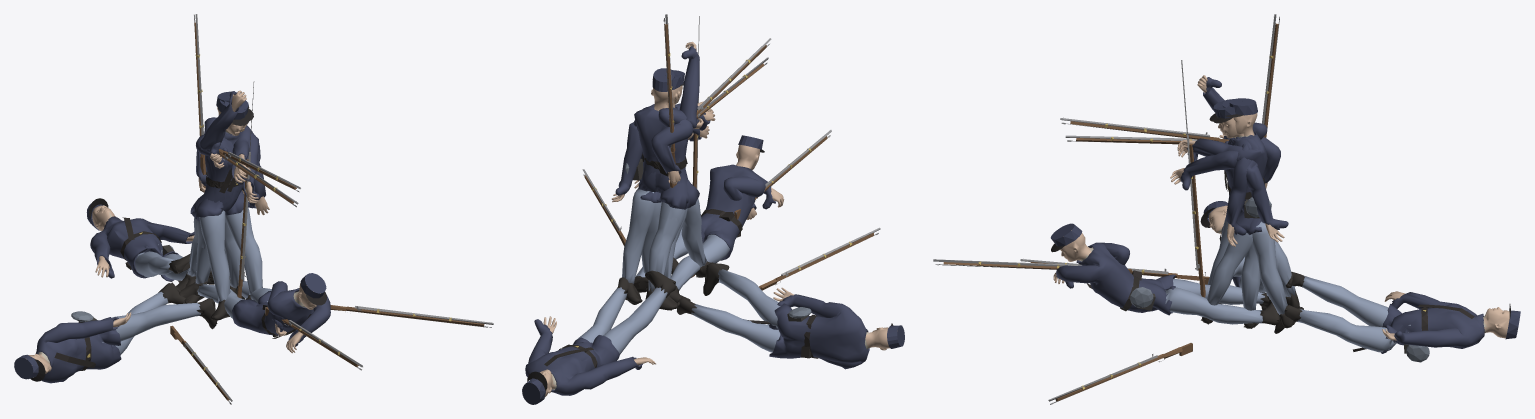
Rendered from union_a_mid.fbx.
3 renders of one model, left to right at view 1: azimuth 30°, elevation 25°; view 2: azimuth 150°, elevation 25°; view 3: azimuth 270°, elevation 25°, orthographic. The views are drawn at different scales.
Visible parts, largest first — view 1: pose_fallen_side, pose_prone_fire, pose_fallen_back, pose_reload_rod, pose_march_a, pose_march_b, pose_fire, pose_aim; view 2: pose_fallen_side, pose_fallen_back, pose_prone_fire, pose_march_b, pose_march_a, pose_fire, pose_reload_rod, pose_aim; view 3: pose_fallen_back, pose_prone_fire, pose_march_a, pose_reload_rod, pose_march_b, pose_fire, pose_aim, pose_fallen_side.
Part boxes in pixels (box(x1,y1,x2,y2)): pose_fallen_side: box(14, 282, 493, 383); pose_prone_fire: box(179, 270, 362, 370); pose_fallen_back: box(86, 198, 232, 404); pose_reload_rod: box(184, 81, 259, 303); pose_march_a: box(176, 14, 269, 299); pose_march_b: box(195, 101, 246, 320); pose_fire: box(185, 91, 300, 287); pose_aim: box(190, 96, 298, 299); pose_fallen_side: box(582, 169, 904, 369); pose_fallen_back: box(522, 227, 880, 404); pose_prone_fire: box(634, 130, 831, 303); pose_march_b: box(611, 70, 729, 303); pose_march_a: box(625, 14, 692, 310); pose_fire: box(634, 38, 771, 302); pose_reload_rod: box(641, 16, 709, 300); pose_aim: box(625, 57, 768, 267); pose_fallen_back: box(1020, 259, 1520, 362); pose_prone_fire: box(933, 223, 1279, 325); pose_march_a: box(1201, 14, 1300, 324); pose_reload_rod: box(1170, 60, 1271, 328); pose_march_b: box(1207, 100, 1303, 328); pose_fire: box(1060, 98, 1287, 324); pose_aim: box(1065, 101, 1290, 328); pose_fallen_side: box(1048, 201, 1265, 404).
Bounding box in the file's own units: 3.4 × 2.63 × 4.19.
